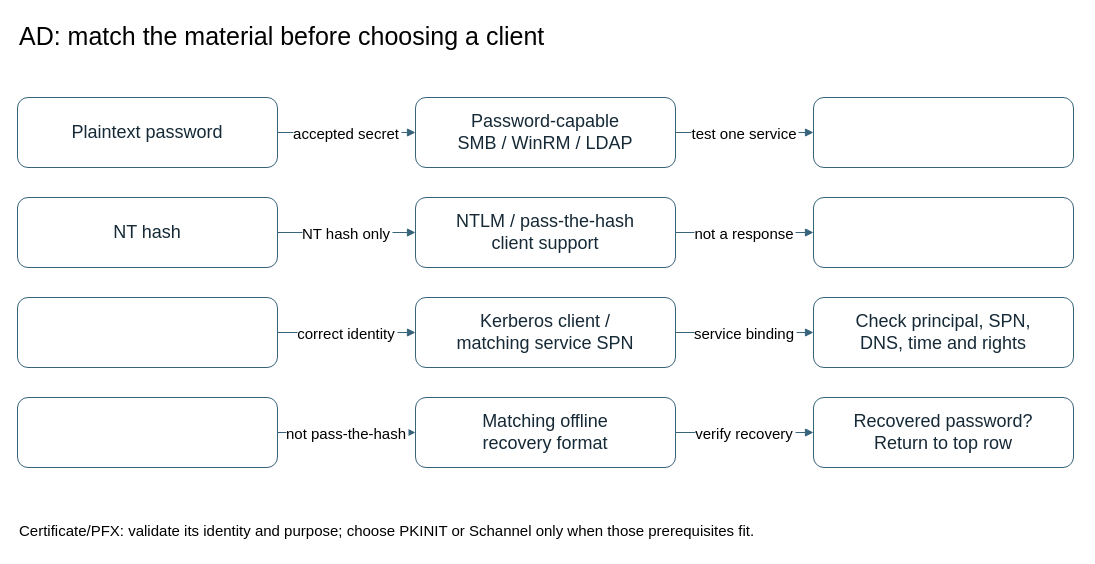
The diagram is 1095 pixels wide and 564 high, and some of its shapes have lost their labels. Here are the shapes that lost their labels. From the top down, the box of each, then its label:
(812, 96, 1074, 168): Verify account + service authorization
(812, 196, 1074, 268): Verify local/domain identity and rights
(16, 296, 278, 368): Kerberos cache or usable key
(16, 396, 278, 468): Net-NTLM / roast response verifier
